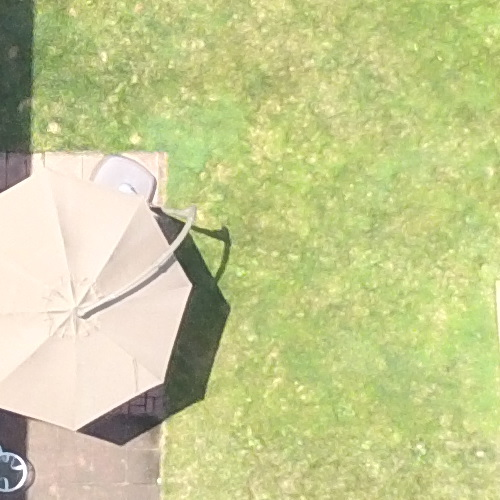umbrella: (1, 172, 226, 443)
